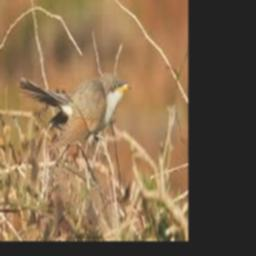Cuckoo: (20, 75, 132, 145)
